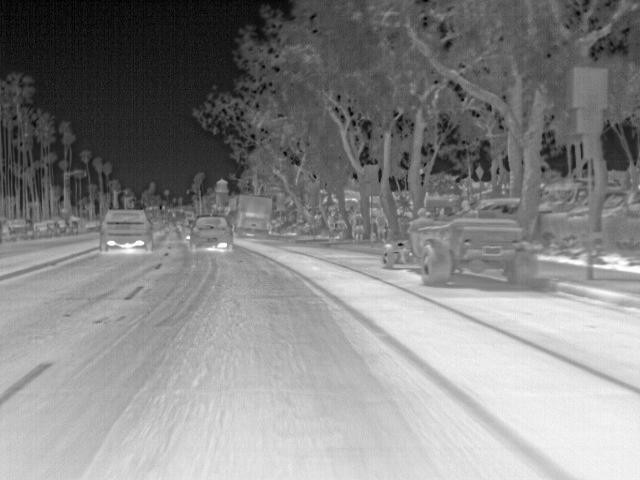car: (97, 206, 152, 248), (187, 211, 236, 252), (3, 218, 34, 243)
person: (406, 207, 435, 234)
